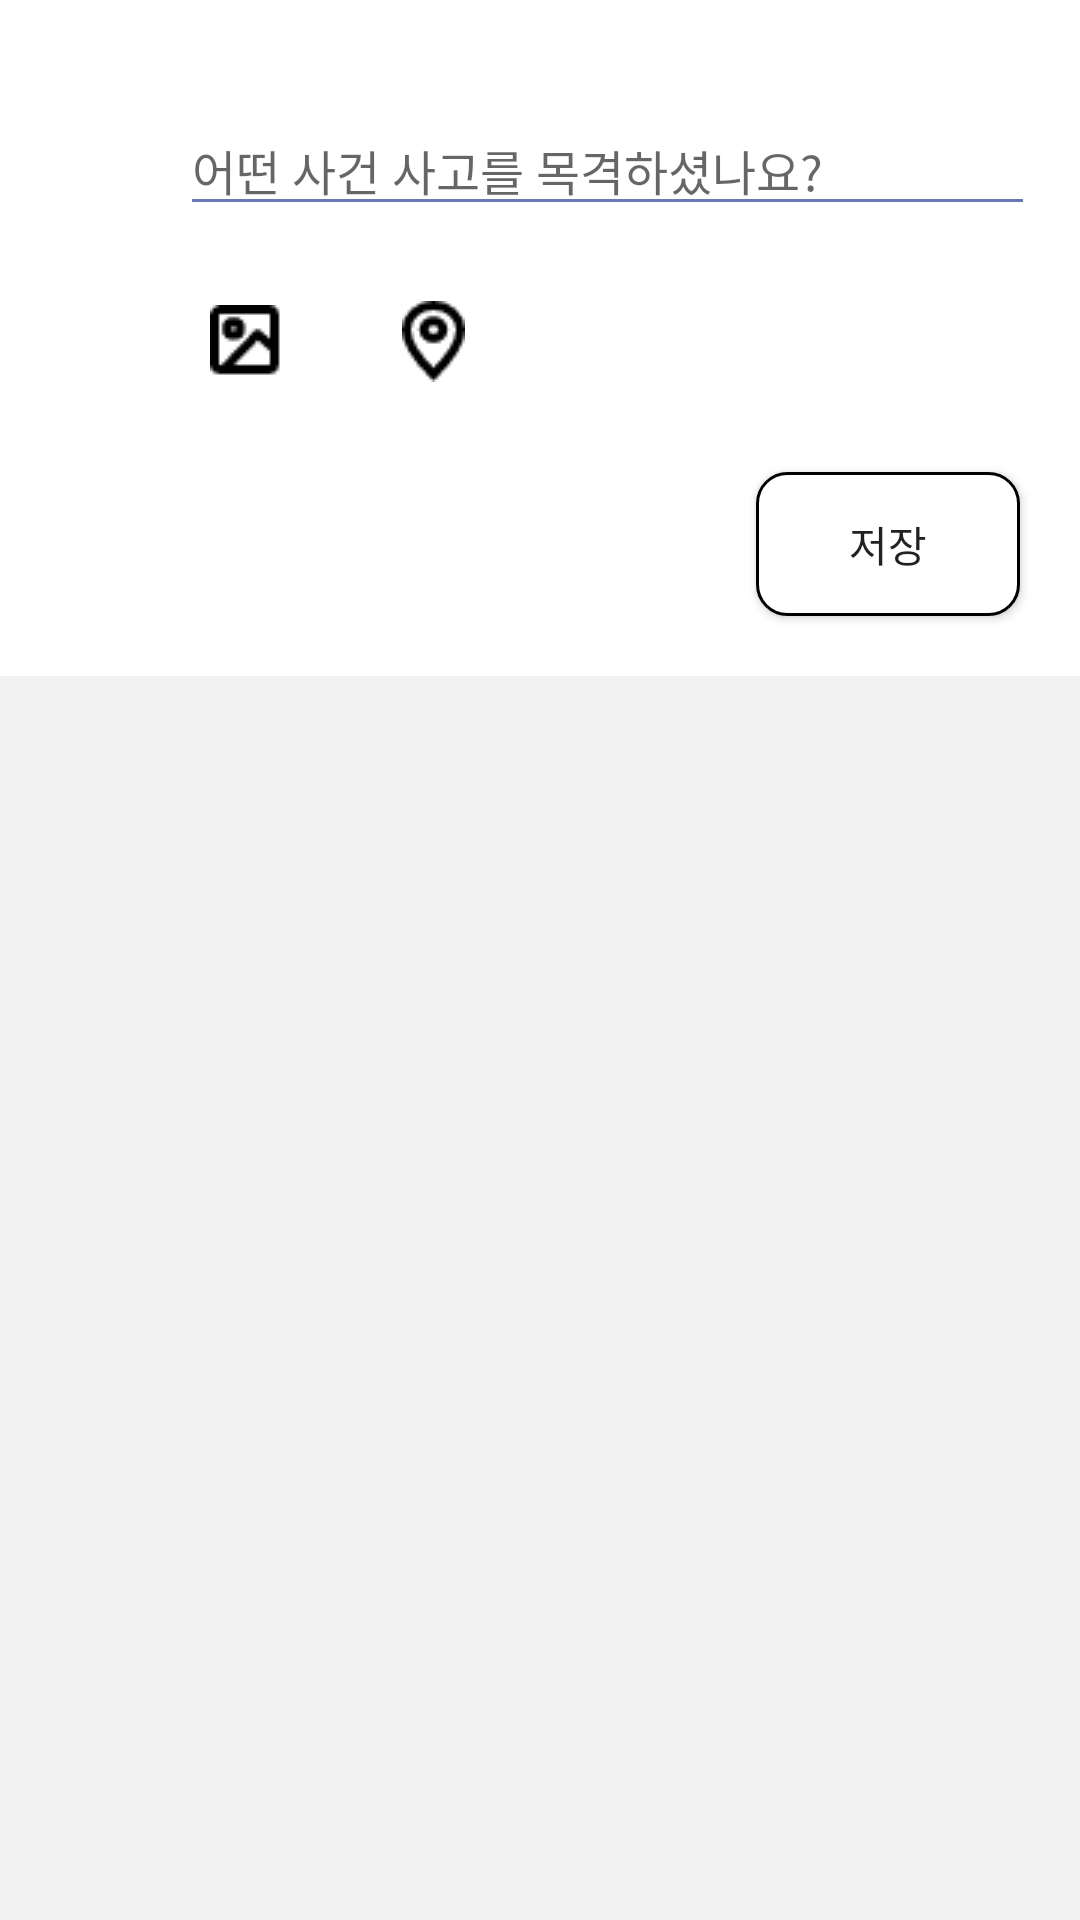

Screen size 1080x1920. Icon name, then its box in pixels as (x1, y1, x2, y2):
writing location: (402, 301, 465, 382)
